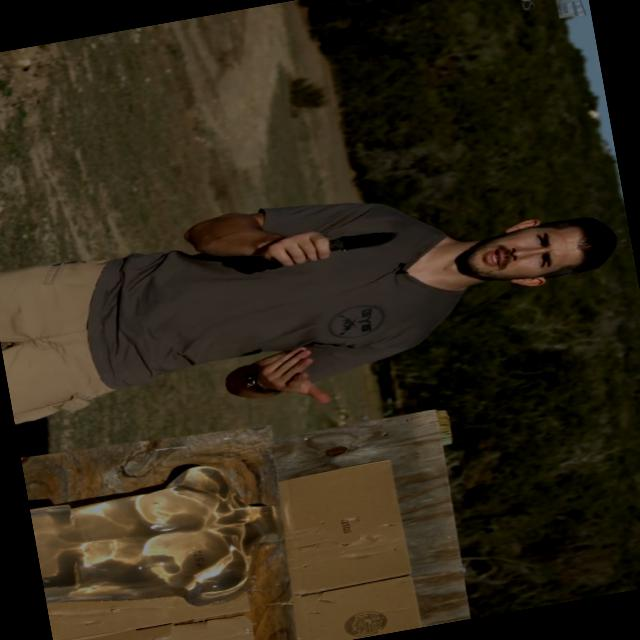knife: (269, 213, 412, 276)
